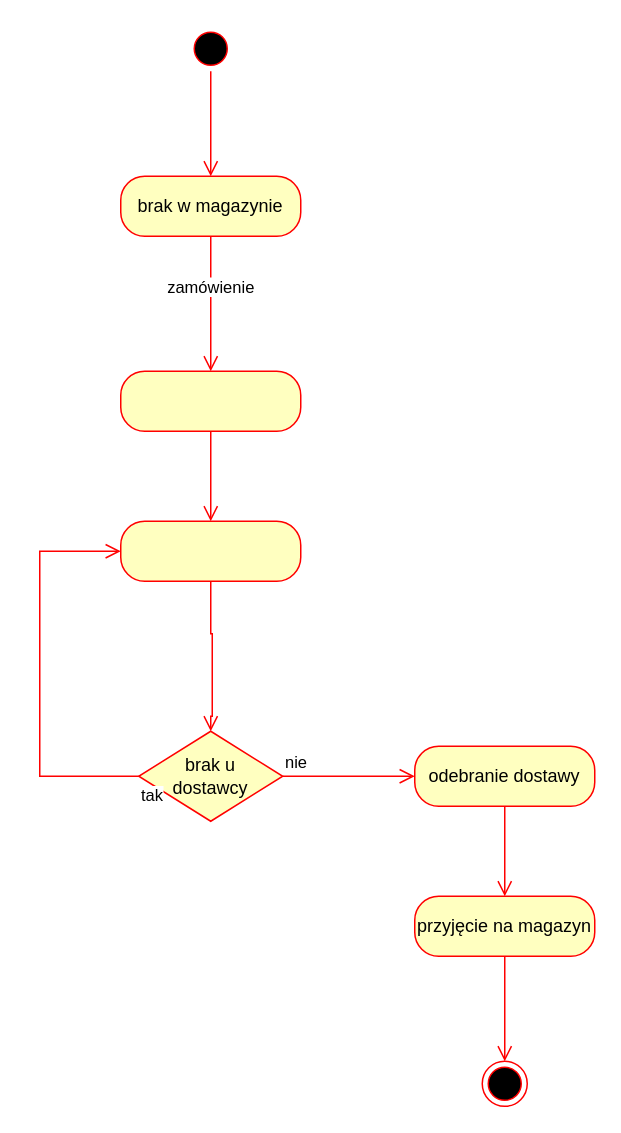
Some shapes in this 621 by 1133 pixel diagram are drawn without their labels. The shapes that lost their labels are listed below. From the top down, each one's box as (x1, y1, x2, y2) in pixels, then its label:
(119, 370, 301, 431): złożone zamówienie
(119, 520, 301, 581): oczekujące
